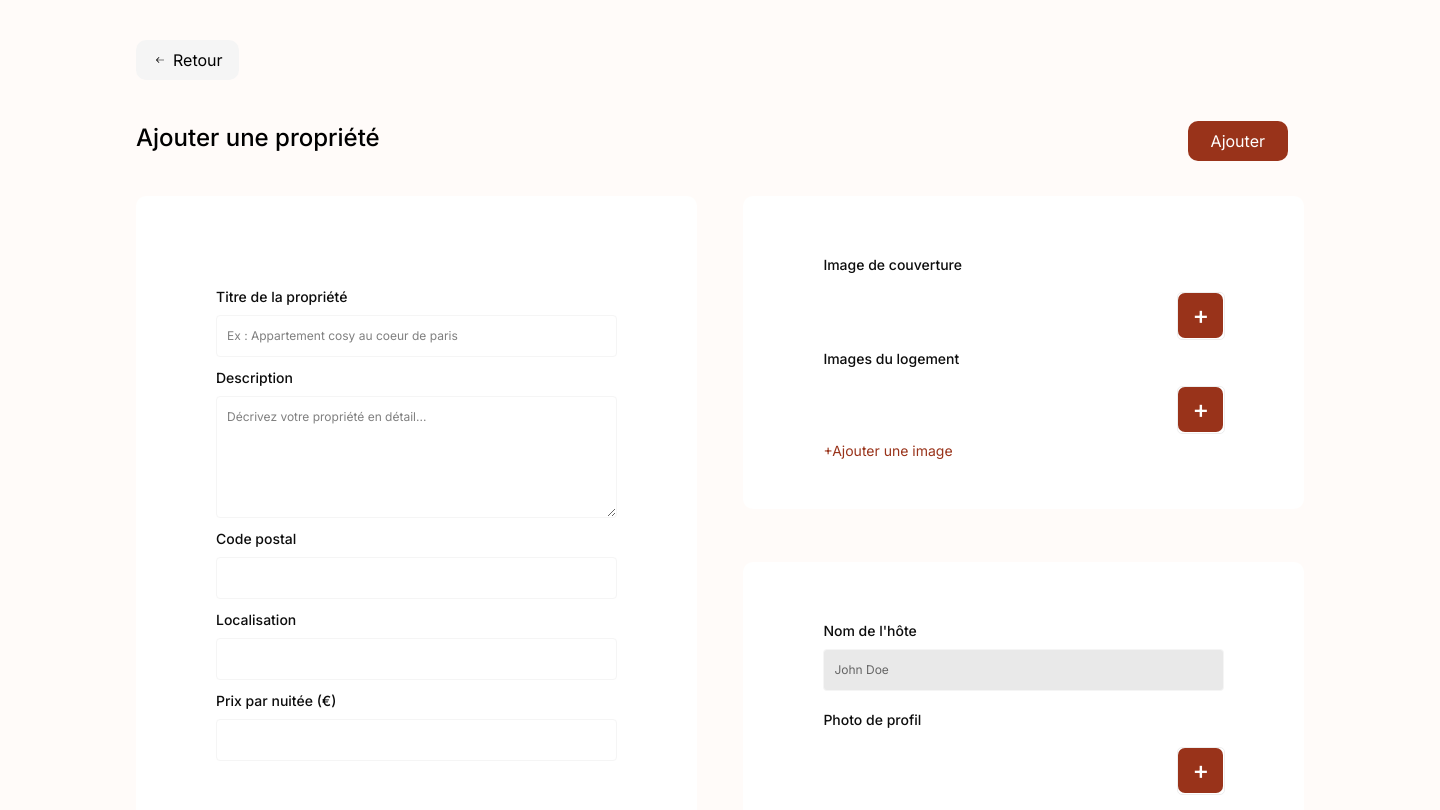
Test: ajouter une propriété › soulève des erreurs si les champs sont vides et place les inputs en aria-invalid
Click the button with aria-label "Ajouter la propriété" at coordinates (1238, 141), box [1188, 121, 1288, 161]
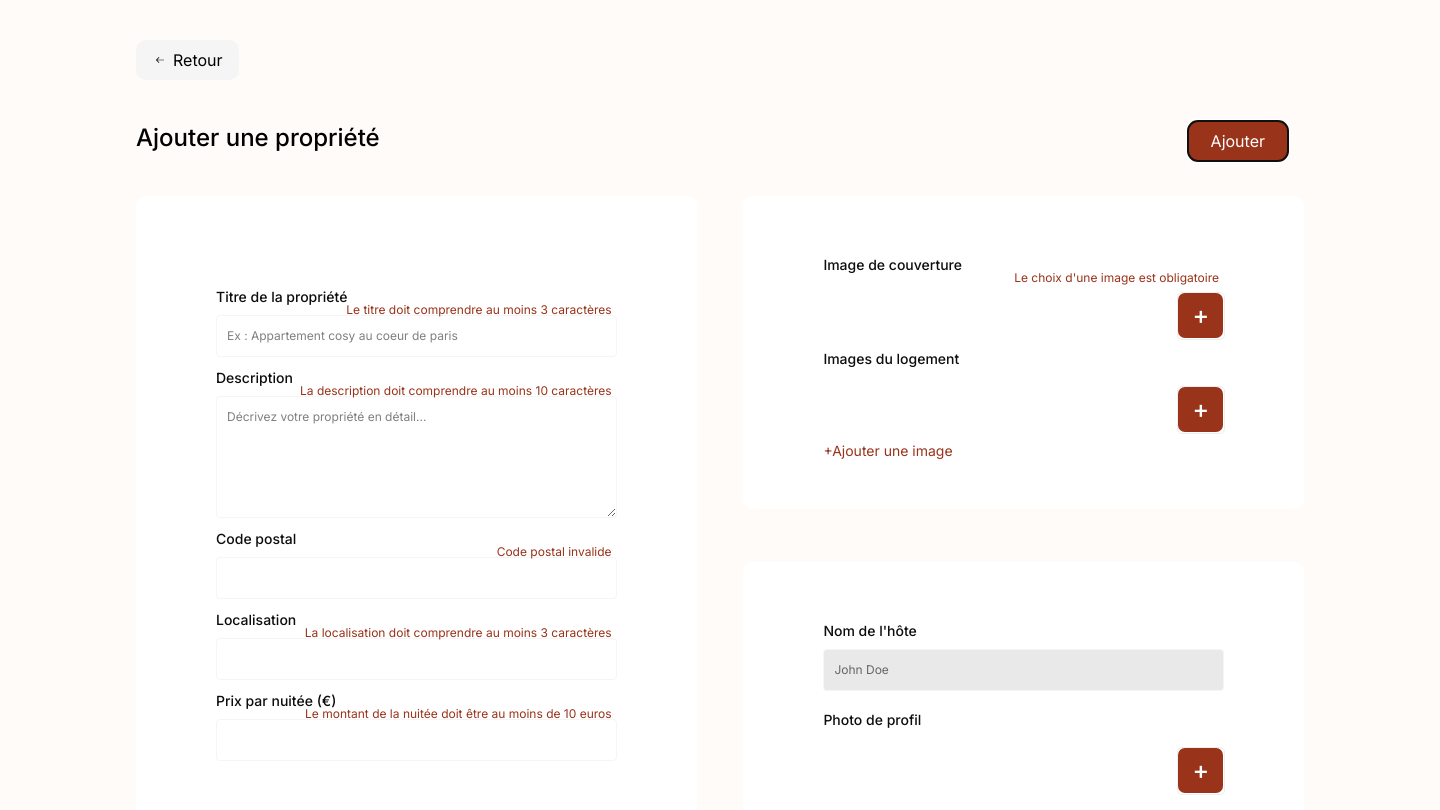
Result: the text "Le titre doit comprendre au moins 3 caractères" is shown at [346, 301, 612, 319]
Result: the text "La description doit comprendre au moins 10 caractères" is shown at [300, 382, 612, 400]
Result: the text "Code postal invalide" is shown at [497, 543, 612, 561]
